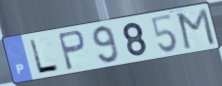5: (149, 12, 179, 55)
8: (122, 21, 149, 58)
9: (89, 24, 121, 65)
L: (28, 38, 62, 75)
M: (176, 6, 217, 51)
P: (56, 28, 88, 72)
